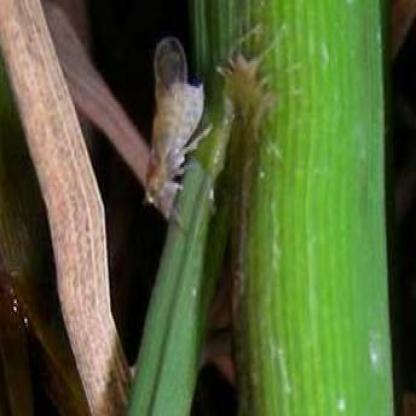brown-planthopper: (145, 38, 208, 214)
